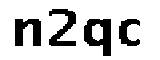2: (45, 4, 79, 51)
c: (120, 17, 144, 50)
n: (11, 17, 43, 49)
q: (80, 16, 113, 60)
